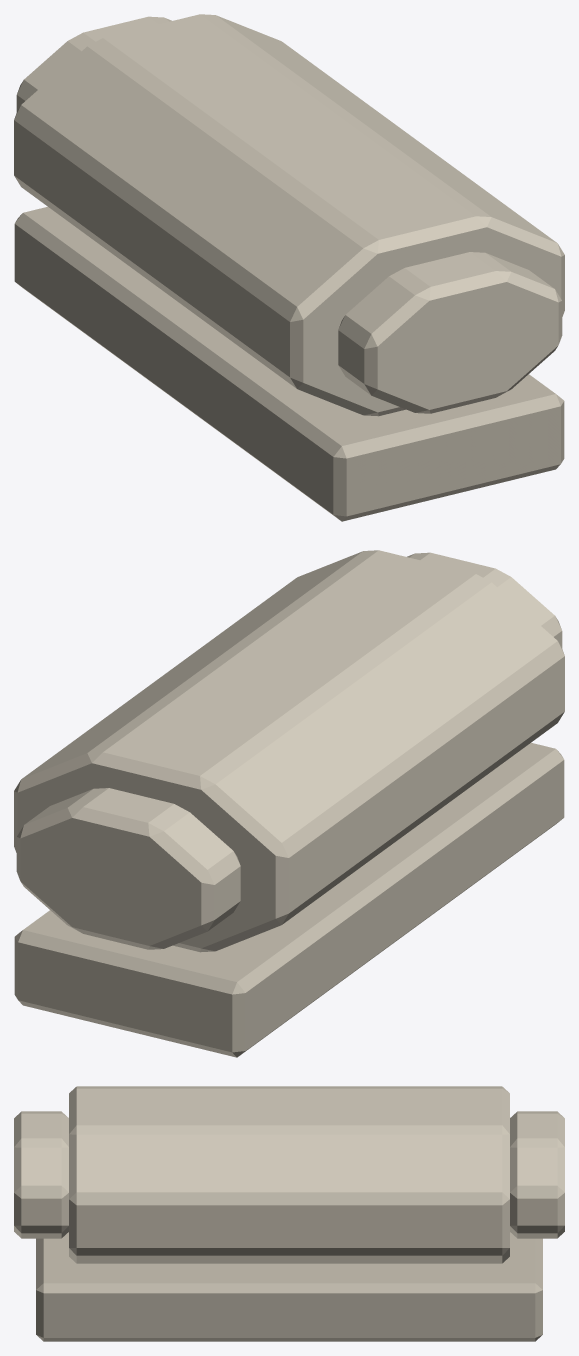
Rendered from tank_drum_hull.glb.
3 views of the same model, one above another, from view 1: azimuth 30°, elevation 25°; view 2: azimuth 150°, elevation 25°; view 3: azimuth 270°, elevation 25° (orthographic). The views are drawn at different scales.
Visible parts, largest first — view 1: tank_drum_hull; view 2: tank_drum_hull; view 3: tank_drum_hull.
Boxes of the visible parts, <box> form: tank_drum_hull: <box>14,14,564,521</box>; tank_drum_hull: <box>14,550,564,1057</box>; tank_drum_hull: <box>14,1086,564,1341</box>.
Size of the model in its own units: 3.2 by 2.8 by 7.2.
